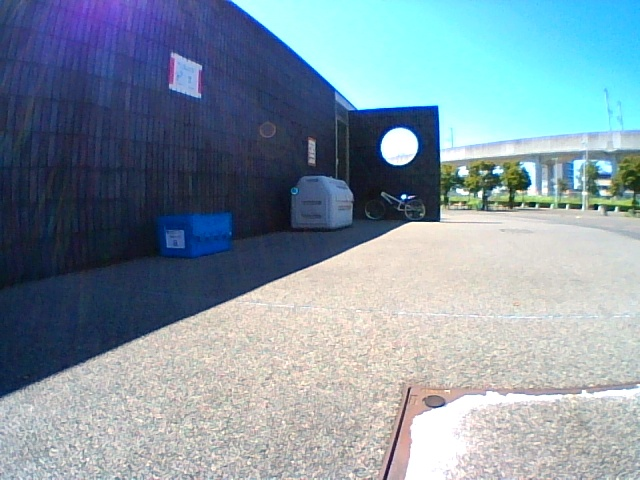blue_box: (157, 213, 230, 258)
tag: (166, 231, 184, 247)
